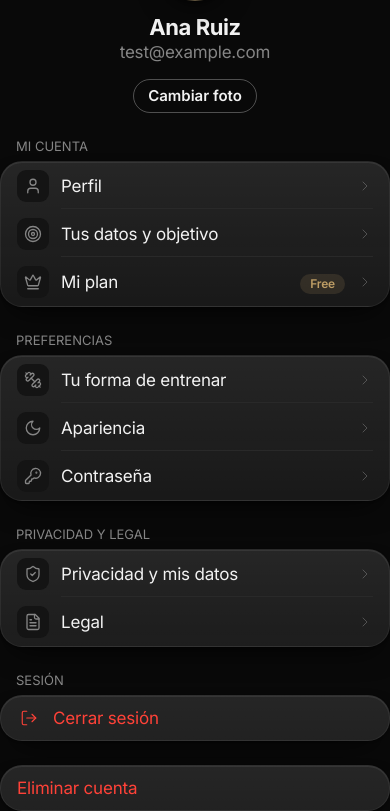
Test: settings account deletion › warns about a trialing subscription before deleting the account
(page scrolled)
Click the button "Eliminar cuenta".
click(77, 788)  # box [1,766,389,810]
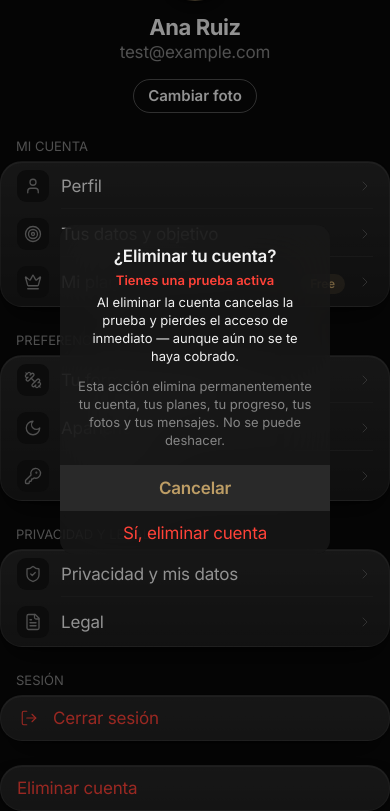
Result: the text "Tienes una prueba activa" is shown at [116,272,274,288]
Result: the text "Al eliminar la cuenta cancelas la prueba y pierdes el acceso de inmediato — aunque aún no se te haya cobrado." is shown at [92,294,298,364]
Result: the button "Sí, eliminar cuenta" is enabled at [60,510,330,554]
